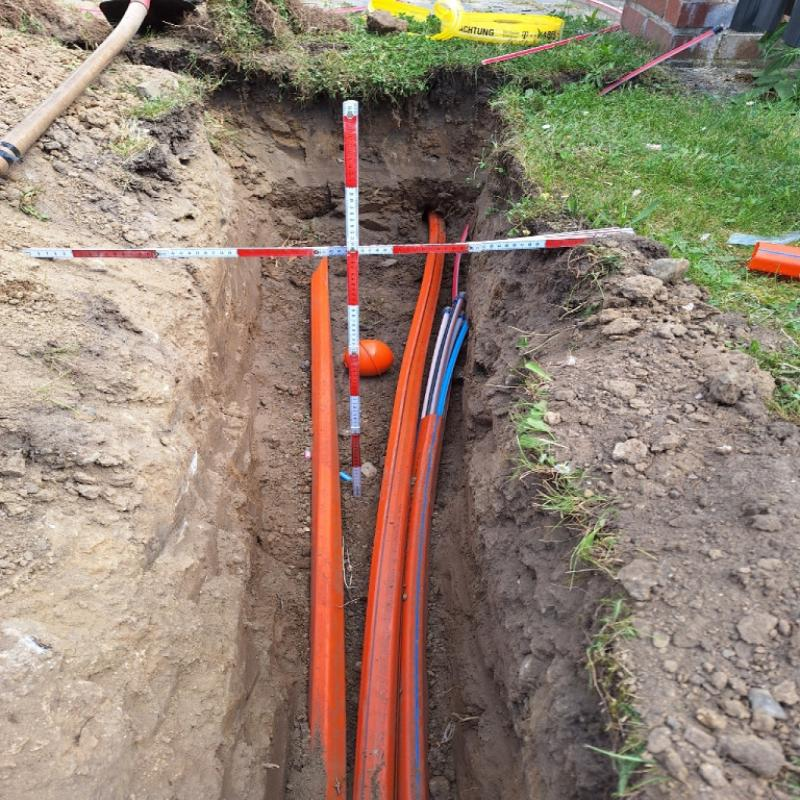Kugelmarker: (343, 339, 393, 377)
Orang-Speednetrohrchen: (305, 253, 475, 797)
